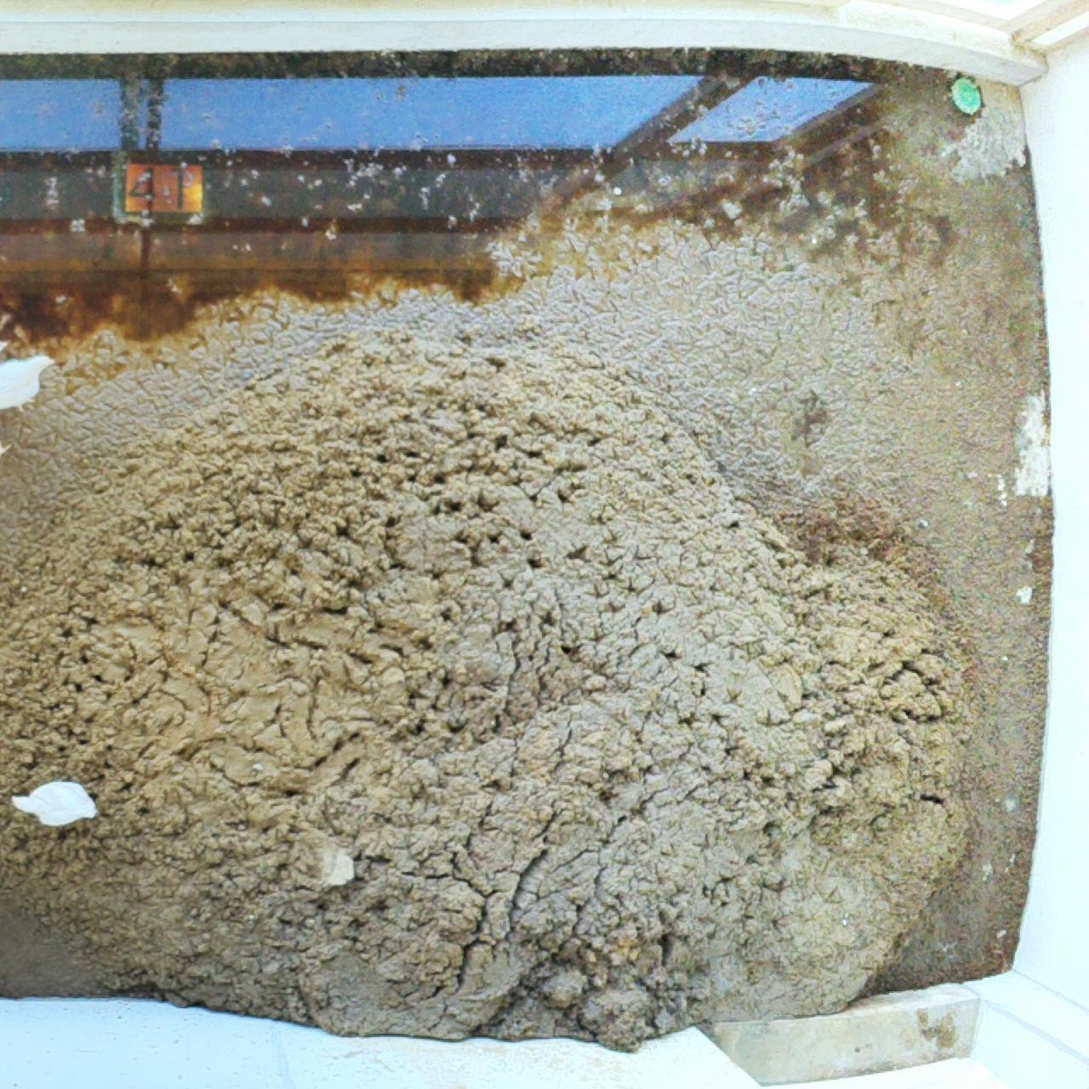chicken: (14, 783, 102, 824), (1, 353, 53, 419), (1, 436, 11, 460)
